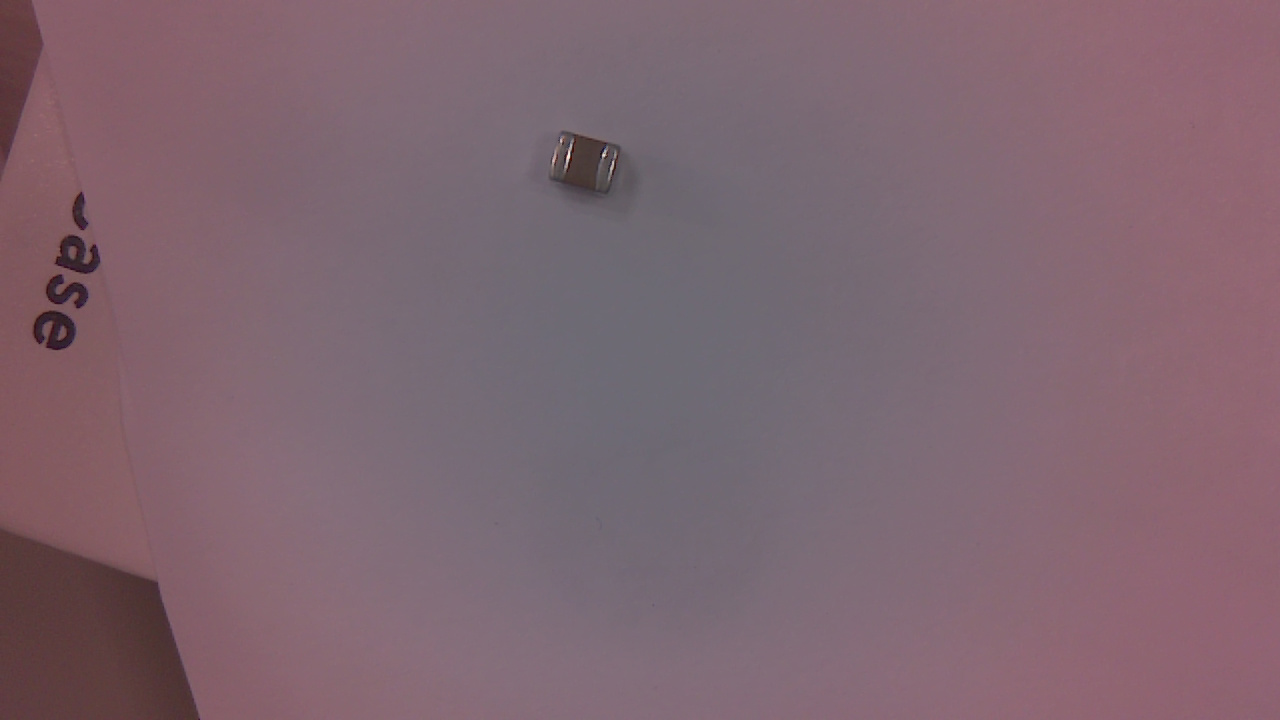Condensator: (549, 135, 627, 202)
